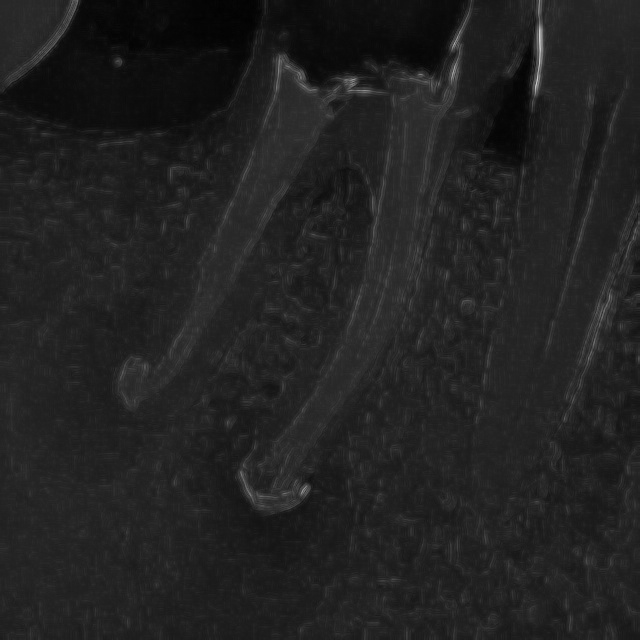Class 0- No endodontic treatment: (110, 5, 476, 577)
